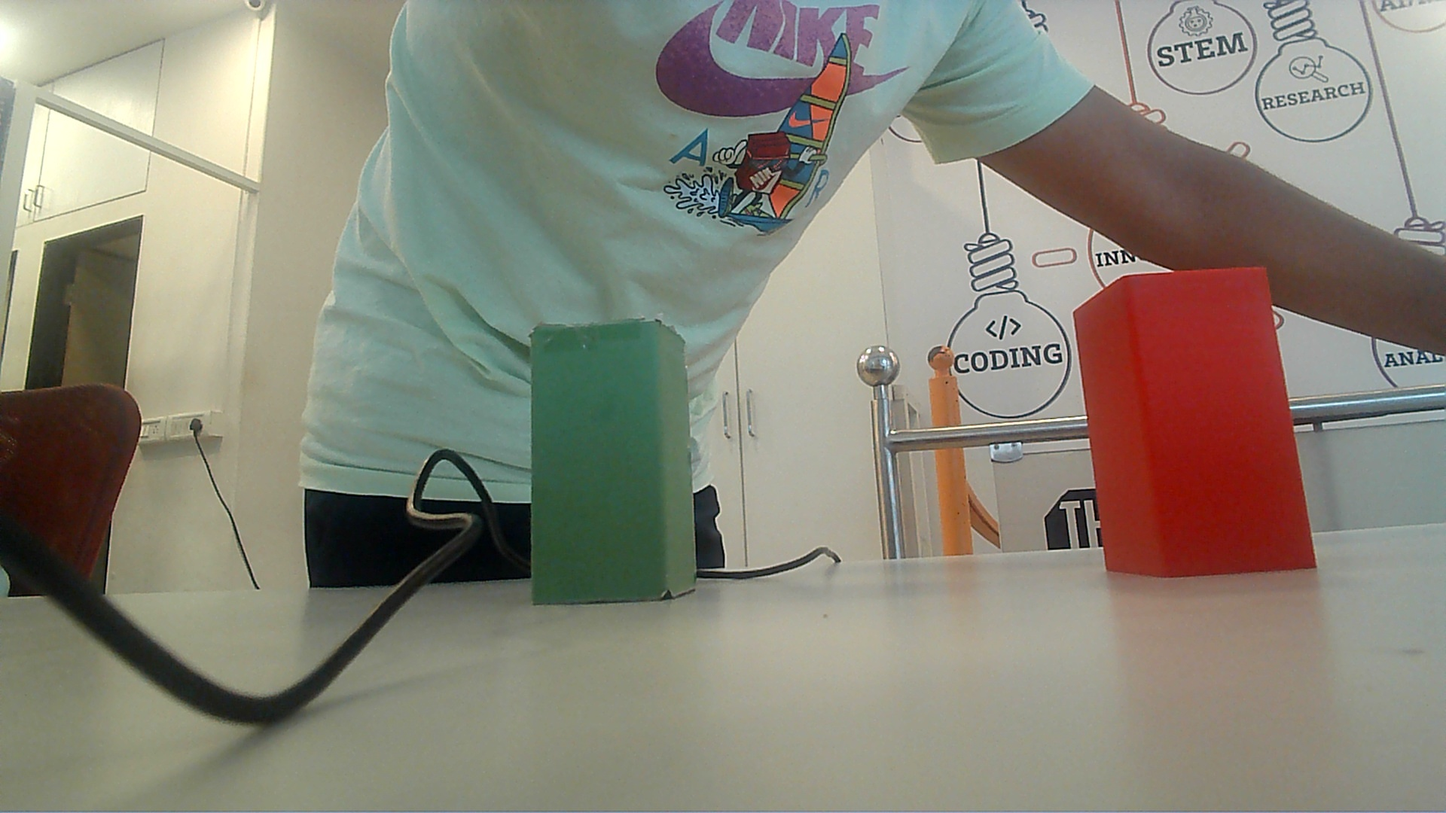green: (534, 326, 689, 598)
